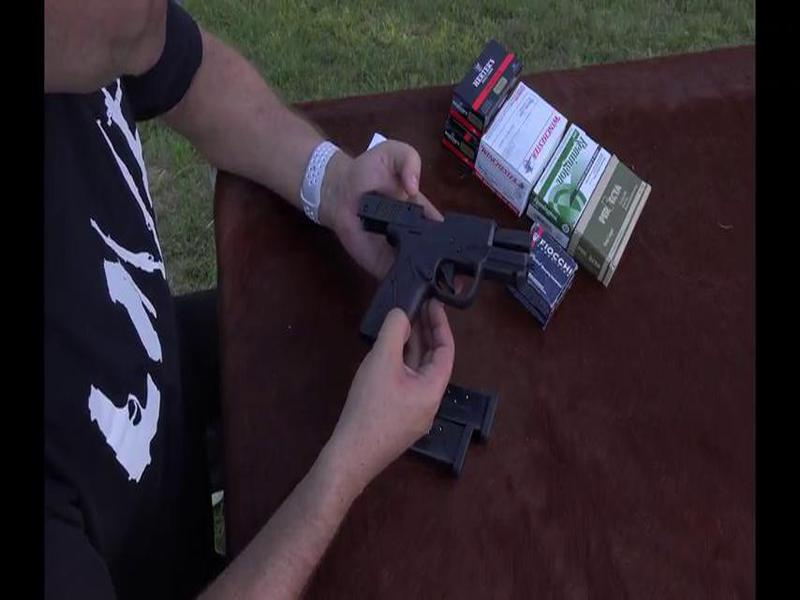Pistola: (350, 192, 536, 364)
